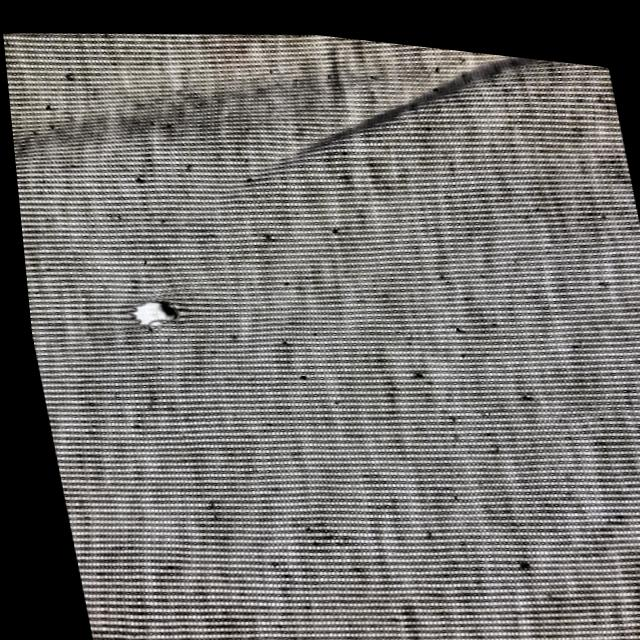Hole: (102, 278, 192, 341)
